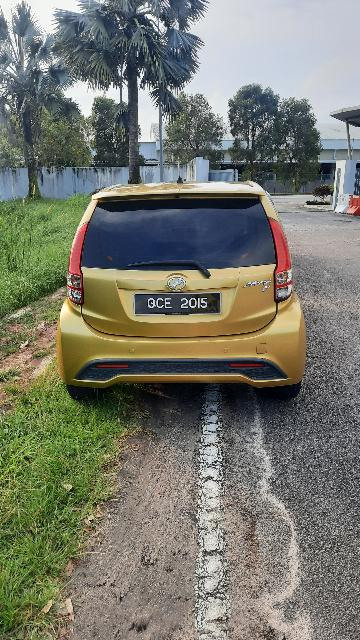License_Plate: (133, 292, 232, 316)
car: (53, 181, 310, 401)
